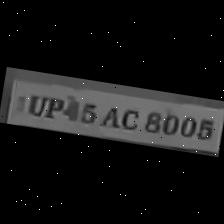0: (176, 113, 198, 140), (158, 110, 180, 136)
5: (192, 115, 216, 142)
6: (75, 97, 99, 125)
8: (140, 106, 166, 134)
A: (97, 102, 120, 129)
C: (116, 104, 141, 131)
P: (39, 92, 63, 120)
U: (22, 90, 47, 117)
